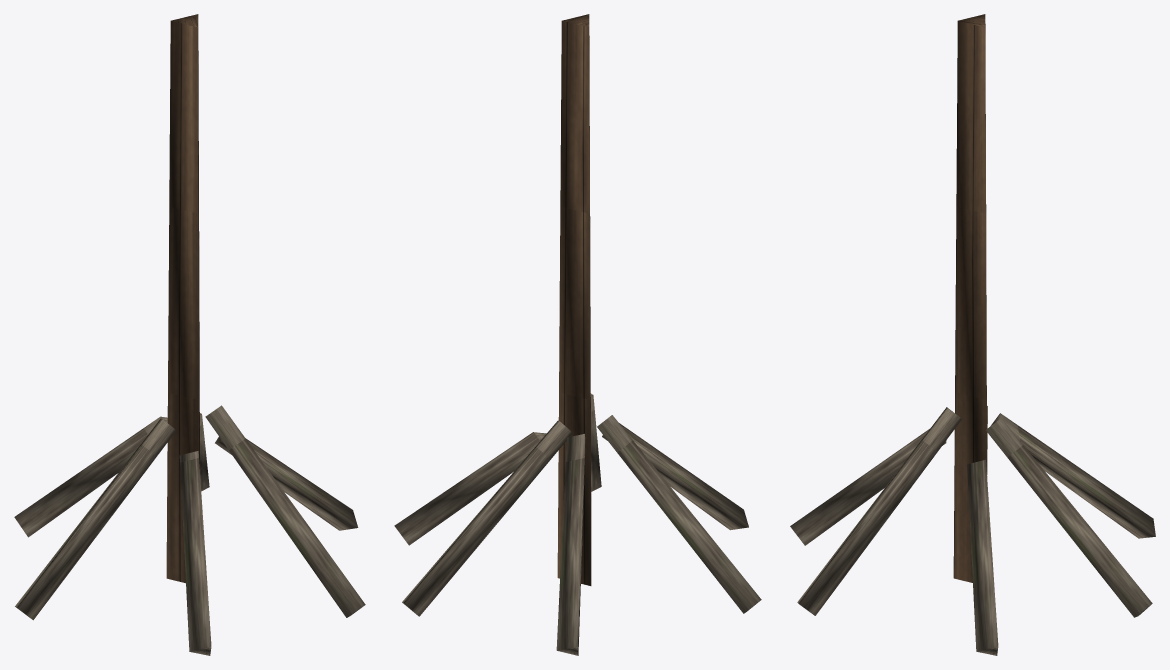
Rendered from Pyre_Stake_1_LOD2.gltf.
3 renders of one model, left to right at view 1: azimuth 30°, elevation 25°; view 2: azimuth 150°, elevation 25°; view 3: azimuth 270°, elevation 25°, orthographic.
Visible parts, largest first — view 1: Pyre_Stake_1_LOD2; view 2: Pyre_Stake_1_LOD2; view 3: Pyre_Stake_1_LOD2.
Part boxes in pixels (x1=…): Pyre_Stake_1_LOD2: x1=14, y1=14, x2=365, y2=655; Pyre_Stake_1_LOD2: x1=394, y1=14, x2=761, y2=655; Pyre_Stake_1_LOD2: x1=790, y1=14, x2=1155, y2=655.
Bounding box in the file's own units: 1.98 × 3 × 1.78.
Materials: 2 (2 with a texture image).
